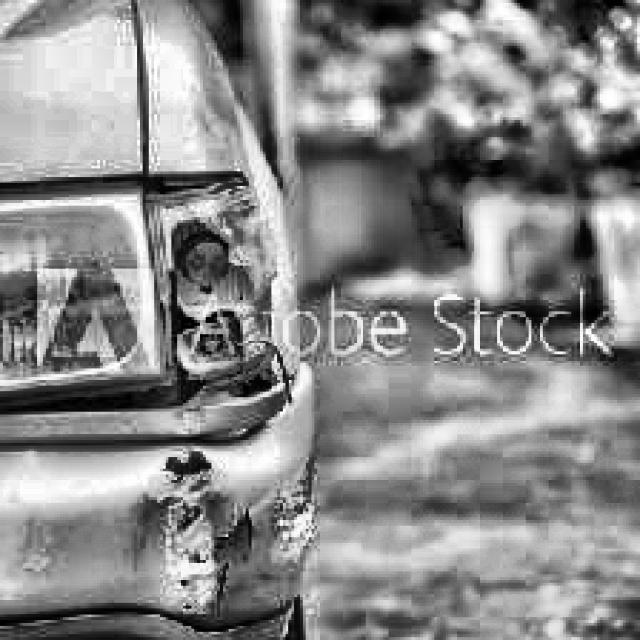tail_lamp: (136, 182, 273, 392)
